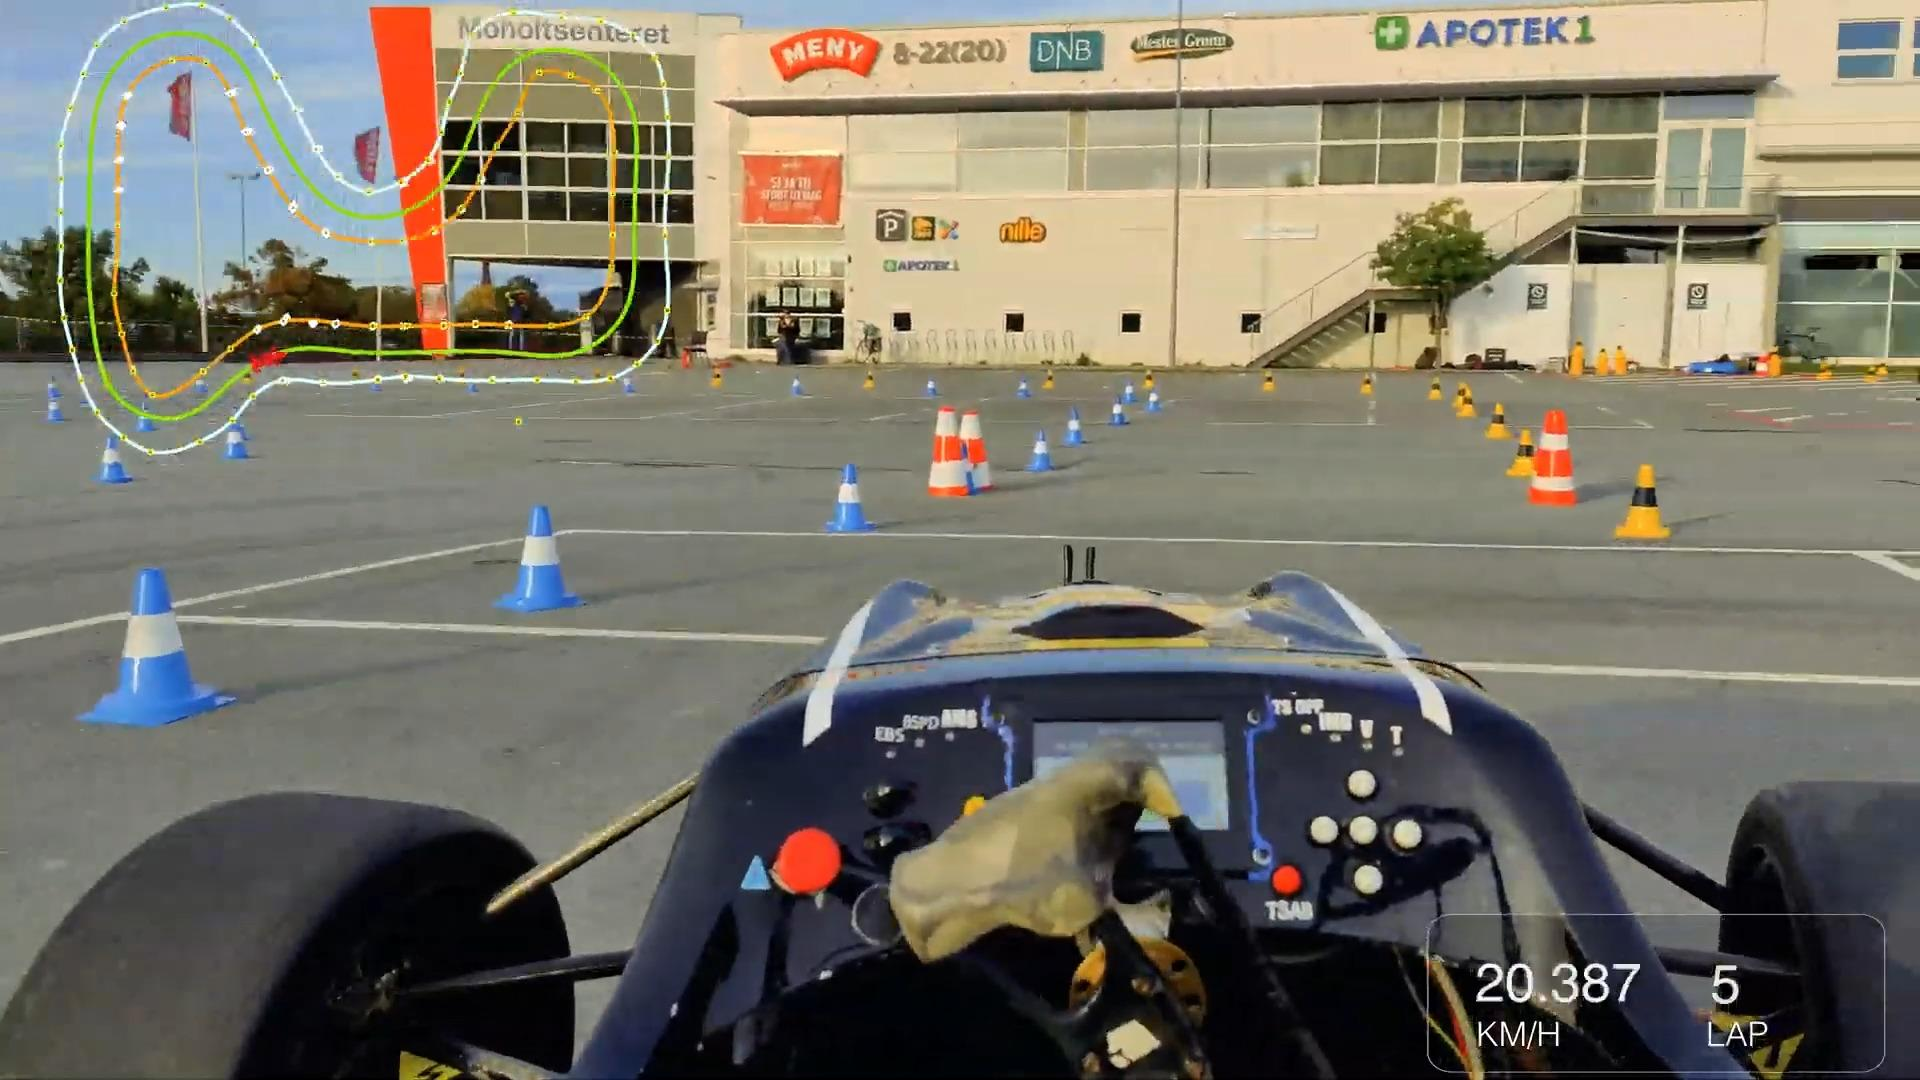blue_cone: (85, 559, 230, 729), (496, 501, 585, 616), (829, 460, 873, 539), (96, 428, 126, 488), (221, 413, 249, 462), (1028, 431, 1053, 476), (1064, 404, 1085, 447), (1109, 396, 1128, 429), (1146, 387, 1160, 417), (1015, 374, 1031, 400), (924, 376, 937, 398), (1123, 382, 1136, 402)
large_orange_cone: (1531, 409, 1577, 508), (921, 404, 967, 499), (959, 407, 991, 494)
yellow_cone: (1615, 460, 1669, 543), (1508, 429, 1539, 480), (1489, 400, 1509, 441), (1458, 384, 1477, 418), (1452, 381, 1470, 412), (709, 364, 727, 392), (1359, 370, 1375, 397), (1428, 374, 1442, 402), (1262, 367, 1276, 393), (864, 367, 877, 393), (1140, 369, 1155, 391), (1044, 370, 1054, 390)
